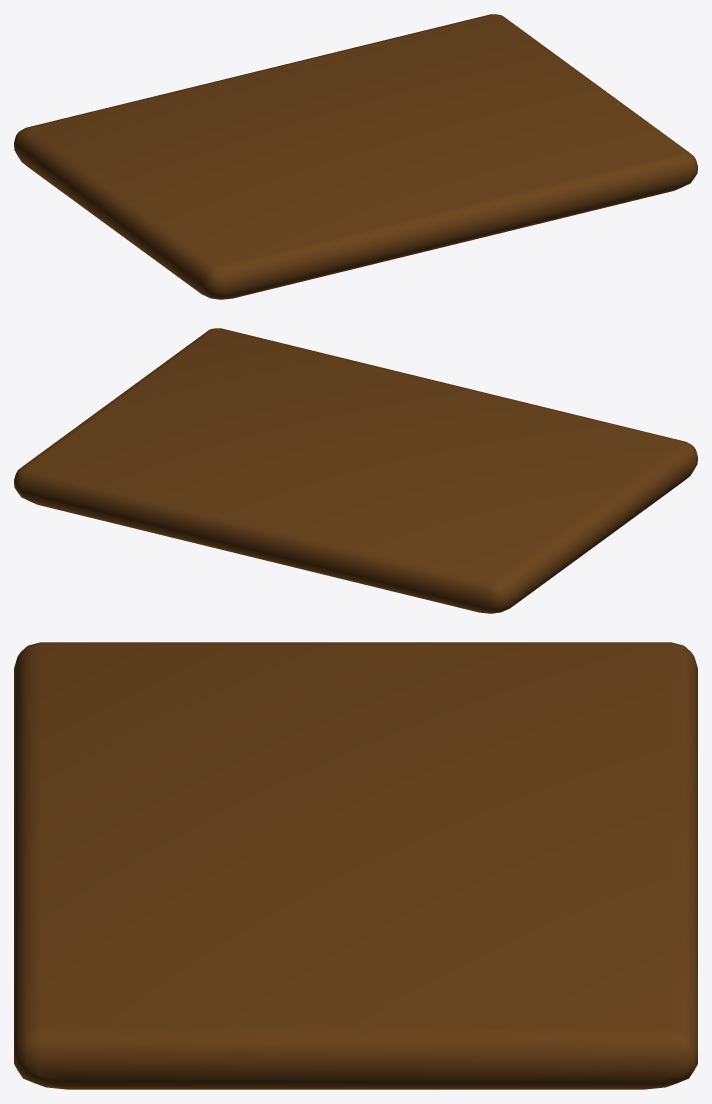
Rendered from frameContainer.fbx.
3 views of the same model, one above another, from view 1: azimuth 30°, elevation 25°; view 2: azimuth 150°, elevation 25°; view 3: azimuth 270°, elevation 25° (orthographic). The views are drawn at different scales.
Visible parts, largest first — view 1: frame; view 2: frame; view 3: frame.
Part boxes in pixels (x1,y1,x2,y2): frame: (14, 14, 697, 299); frame: (14, 328, 697, 613); frame: (14, 642, 697, 1089).
Bounding box in the file's own units: 146 × 9.96 × 104.
